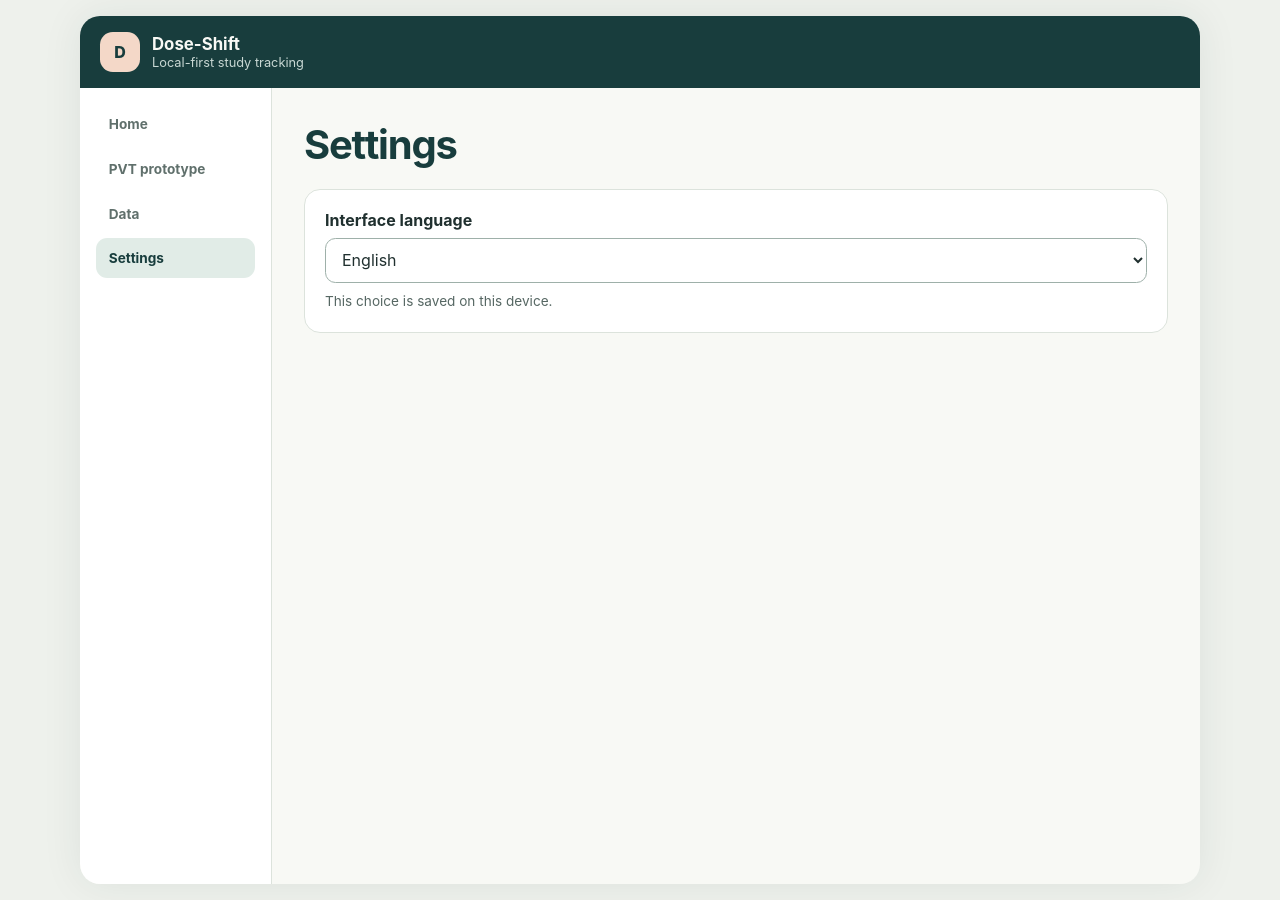
Test: language selector › switches to French and persists the choice locally
Select "French" in the dropdown labelled "Interface language": (736, 260) [325,238,1147,283]
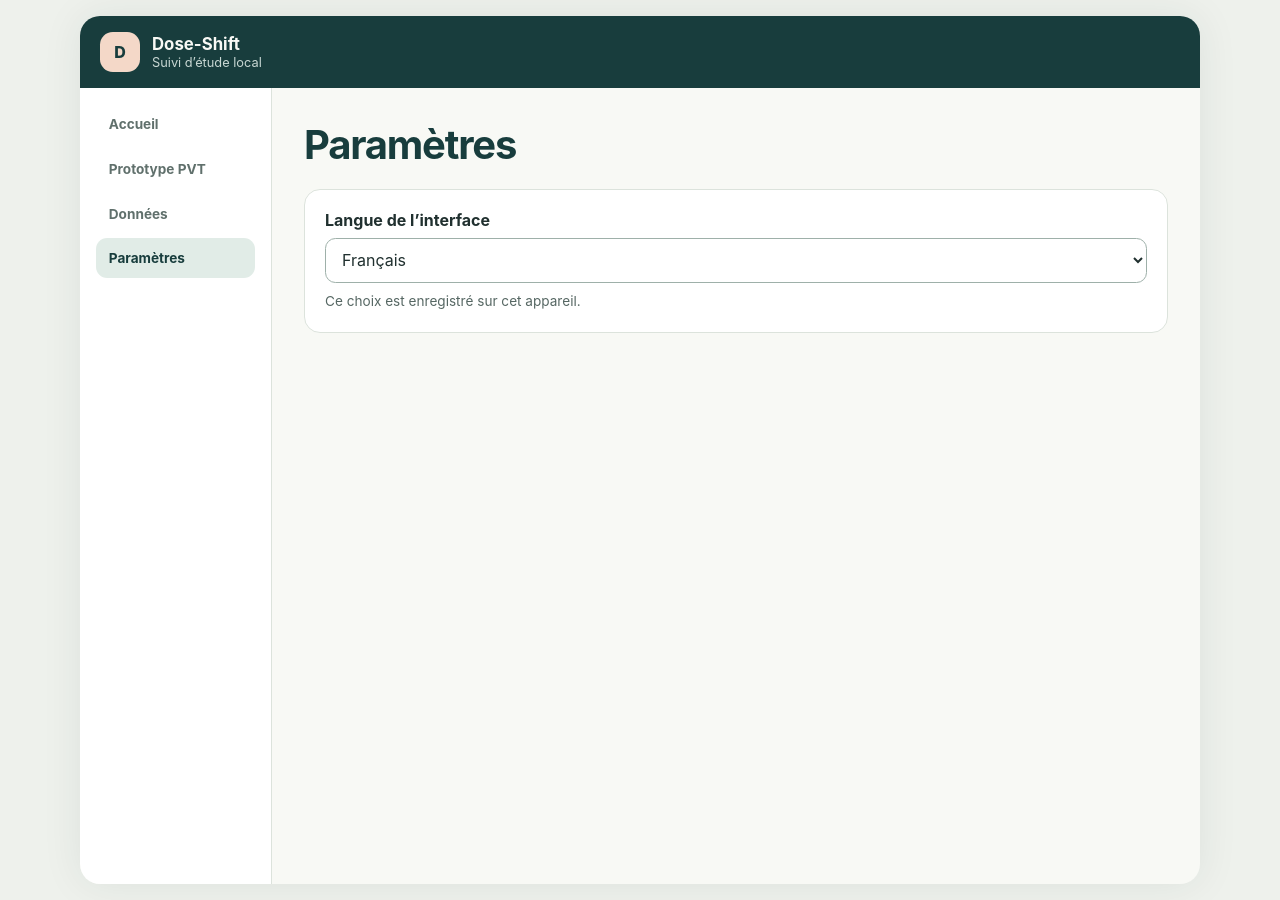
Expected: the heading "Paramètres" is shown, [304,120,516,169]
